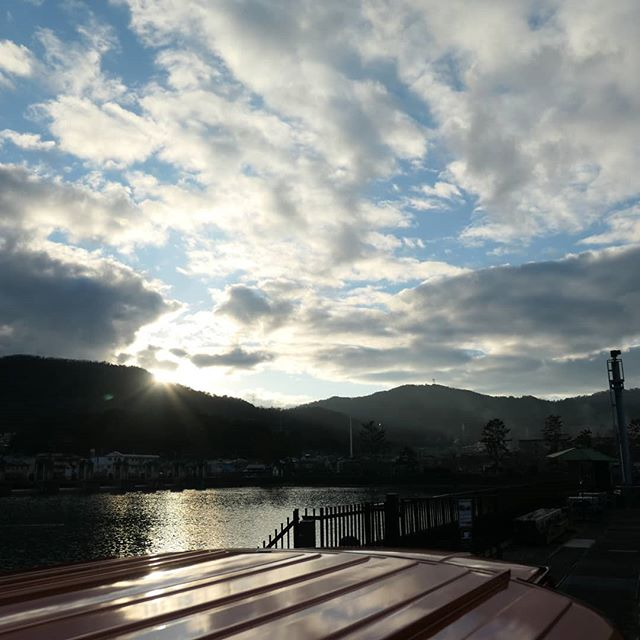mountain: (250, 343, 597, 435), (1, 338, 251, 405)
sea: (1, 483, 438, 560)
sky: (1, 1, 603, 365)
